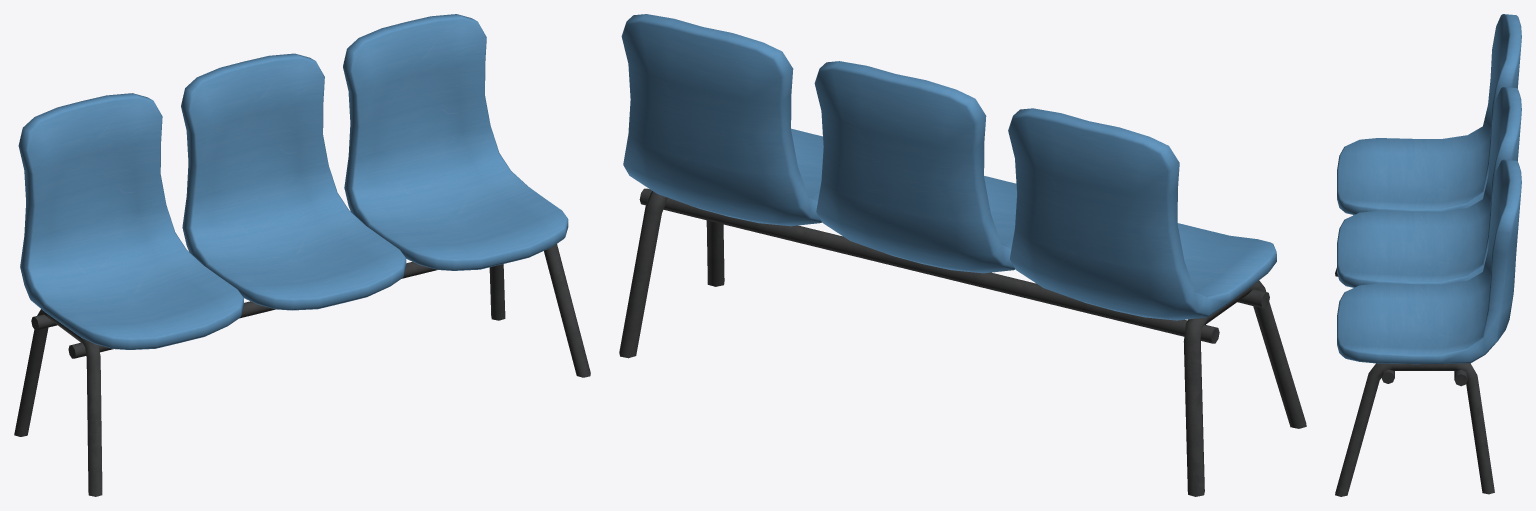
The model's file is Chair_2.fbx.
3 views of the same model, side by side, from view 1: azimuth 30°, elevation 25°; view 2: azimuth 150°, elevation 25°; view 3: azimuth 270°, elevation 25° (orthographic). The views are drawn at different scales.
Parts seen in each view (by area): view 1: Chair_2; view 2: Chair_2; view 3: Chair_2.
Part boxes in pixels (box(x1,y1,x2,y2)): Chair_2: box(14, 14, 590, 496); Chair_2: box(619, 14, 1306, 496); Chair_2: box(1335, 14, 1521, 496).
Size of the model in its own units: 2.05 by 1.18 by 0.7166.
